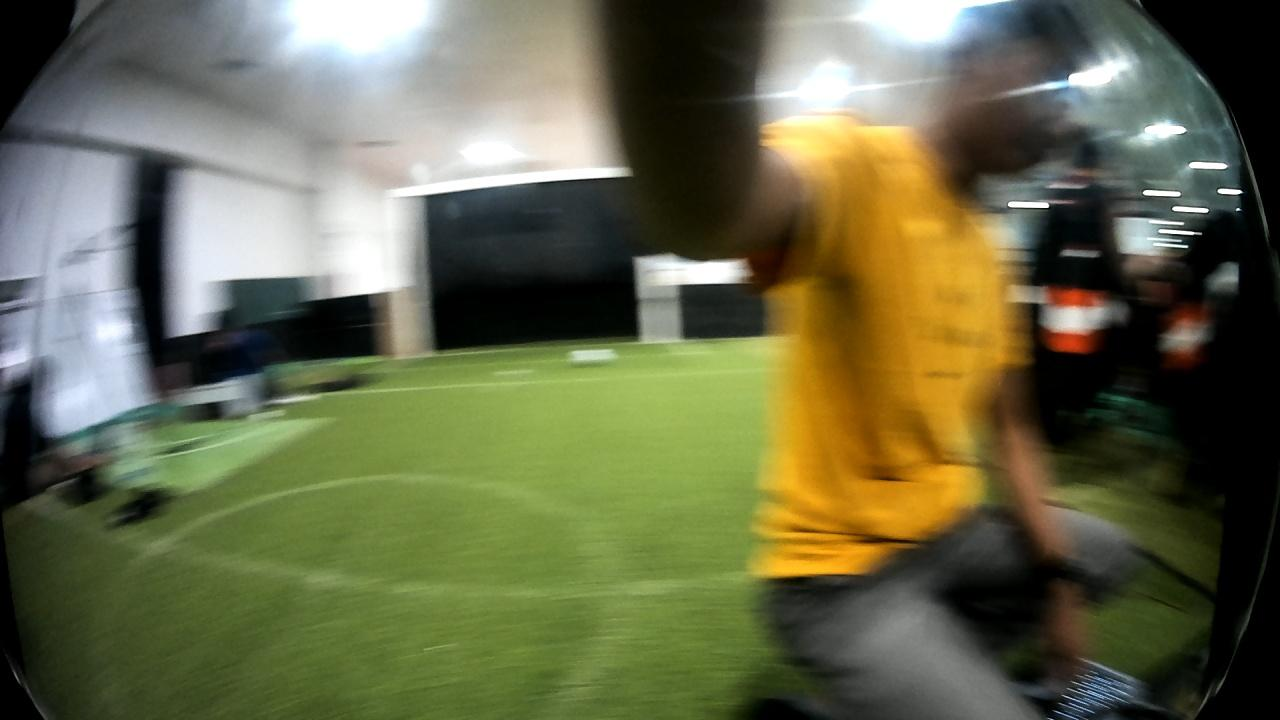ball: (560, 343, 621, 375)
